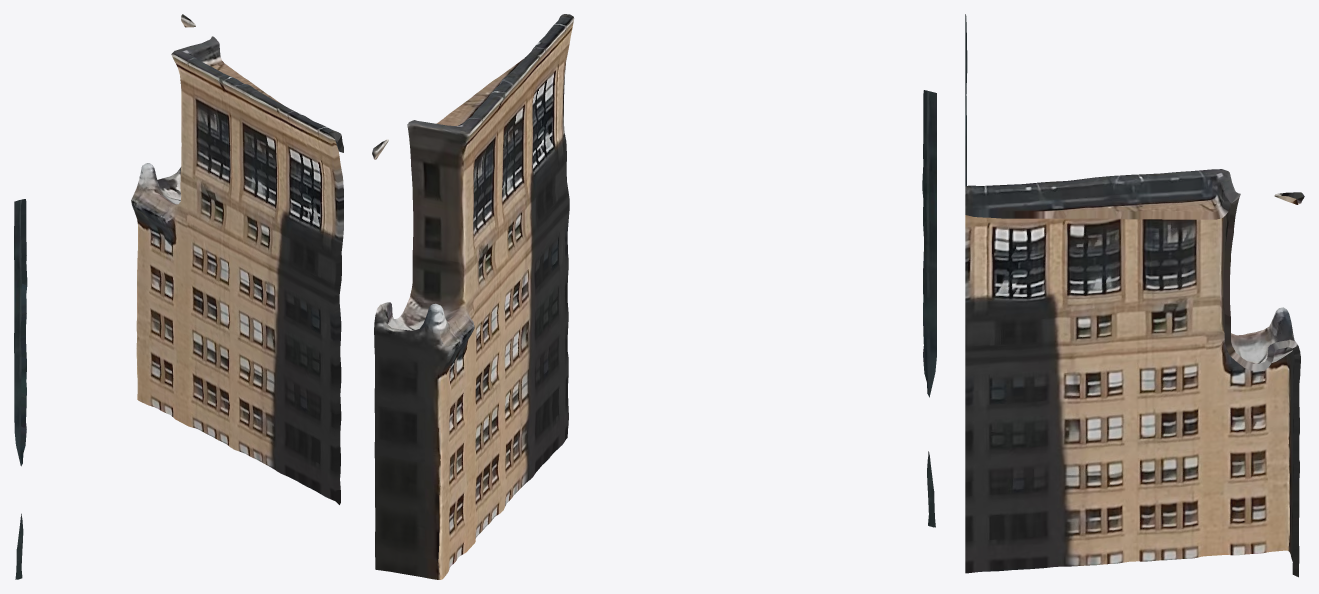
Rendered from z20-167770-405236-h1-yup-uvflip-v3-world.glb.
The picture shows the model from 3 angles, left to right: view 1: azimuth 30°, elevation 25°; view 2: azimuth 150°, elevation 25°; view 3: azimuth 270°, elevation 25°; orthographic projection. The views are drawn at different scales.
Size of the model in its own units: 30.16 by 33.52 by 25.76.
Materials: 1 (1 with a texture image).
